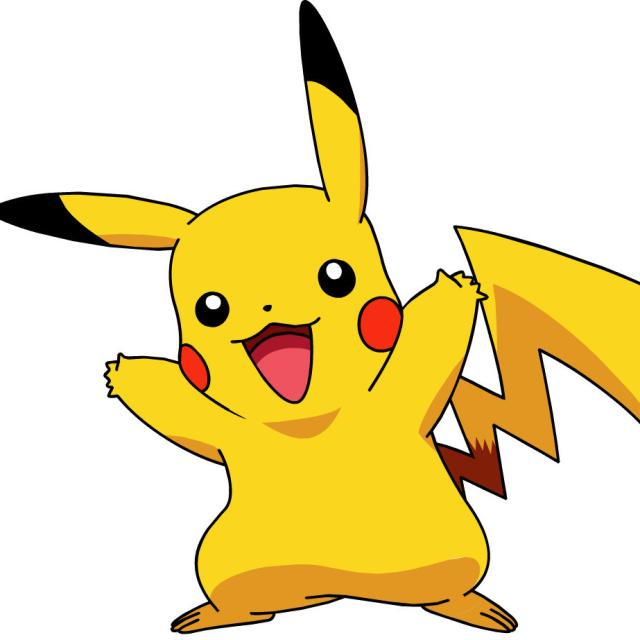Pikachu: (104, 157, 502, 621)
